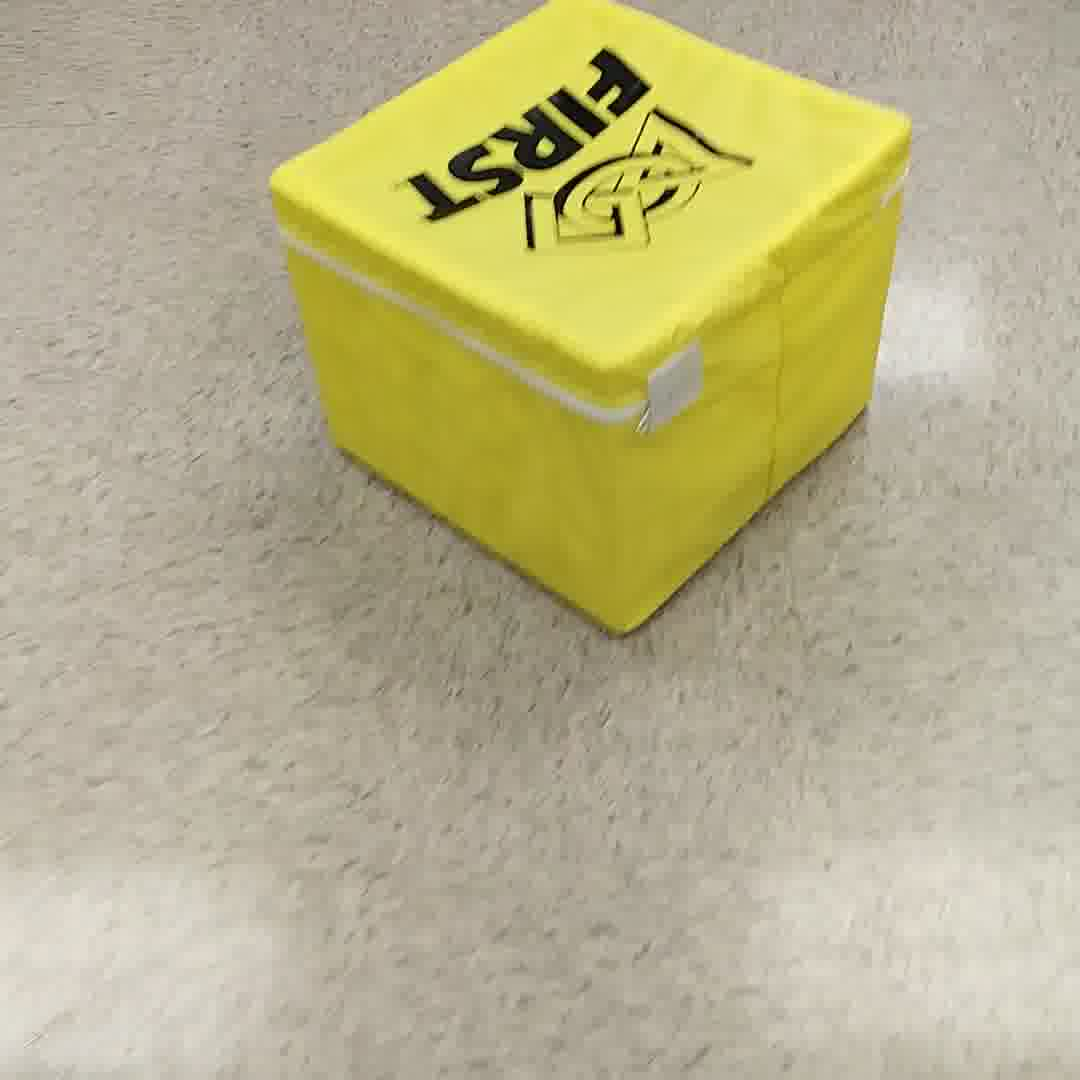box: (253, 1, 916, 656)
